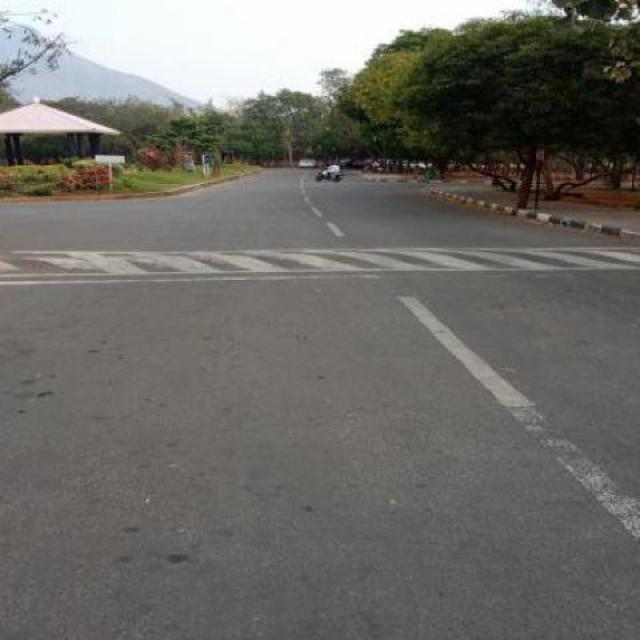Speed Bump: (0, 245, 639, 288)
